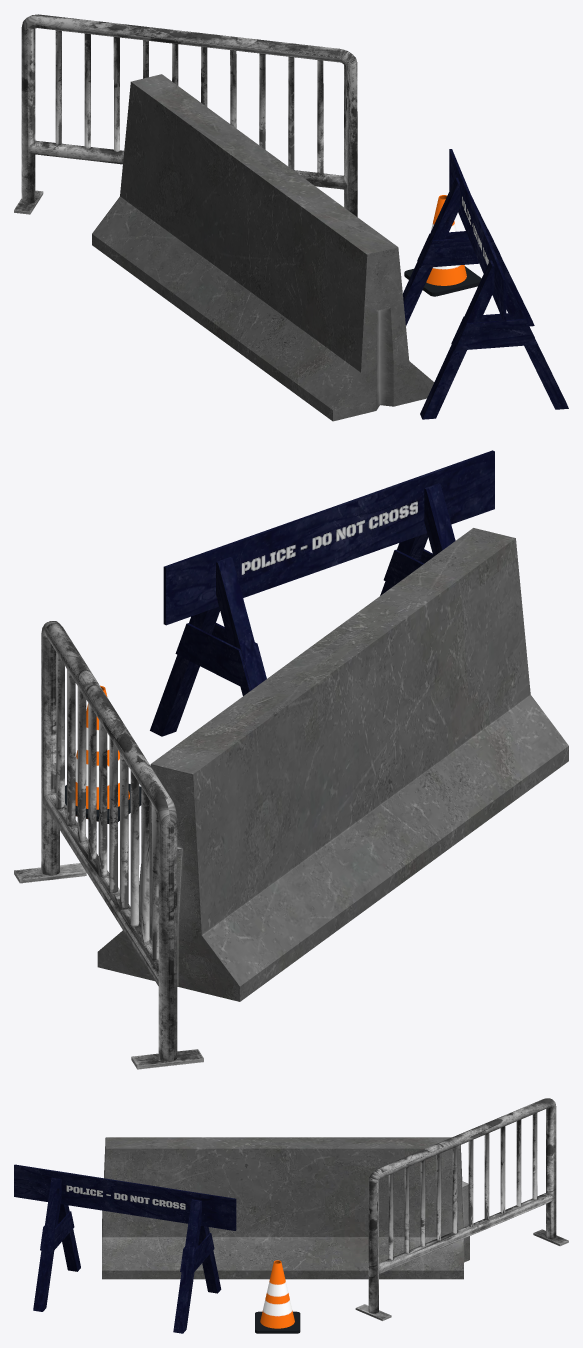
File: barriers.glb
The picture shows the model from 3 angles, top to bottom: view 1: azimuth 30°, elevation 25°; view 2: azimuth 150°, elevation 25°; view 3: azimuth 270°, elevation 25°; orthographic projection. The views are drawn at different scales.
Visible parts, largest first — view 1: CementBarrier_CementBarrier_0, MetalBarrier_MetalBarrier_0, WoodenBarrier_WoodenBarrier_0, Cone_Cone_0; view 2: CementBarrier_CementBarrier_0, MetalBarrier_MetalBarrier_0, WoodenBarrier_WoodenBarrier_0, Cone_Cone_0; view 3: CementBarrier_CementBarrier_0, MetalBarrier_MetalBarrier_0, WoodenBarrier_WoodenBarrier_0, Cone_Cone_0.
Boxes of the visible parts, x1,y1,x2,y2 form: CementBarrier_CementBarrier_0: (92, 74, 434, 421); MetalBarrier_MetalBarrier_0: (14, 14, 357, 216); WoodenBarrier_WoodenBarrier_0: (403, 149, 568, 419); Cone_Cone_0: (404, 195, 481, 296); CementBarrier_CementBarrier_0: (97, 528, 568, 1001); MetalBarrier_MetalBarrier_0: (14, 621, 203, 1069); WoodenBarrier_WoodenBarrier_0: (150, 450, 494, 736); Cone_Cone_0: (65, 685, 141, 823); CementBarrier_CementBarrier_0: (102, 1137, 469, 1279); MetalBarrier_MetalBarrier_0: (355, 1098, 568, 1320); WoodenBarrier_WoodenBarrier_0: (14, 1164, 236, 1333); Cone_Cone_0: (255, 1260, 300, 1333).
Size of the model in its own units: 5.36 by 3.48 by 12.27.
4 materials, 4 textured.
